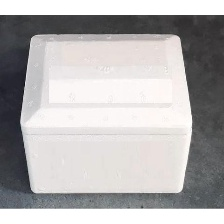foam_box: (13, 25, 198, 201)
